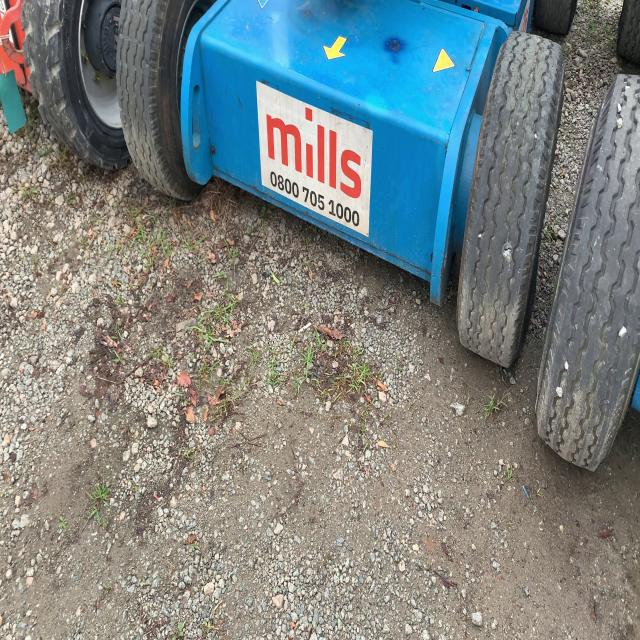Adesivos: (255, 78, 374, 243)
